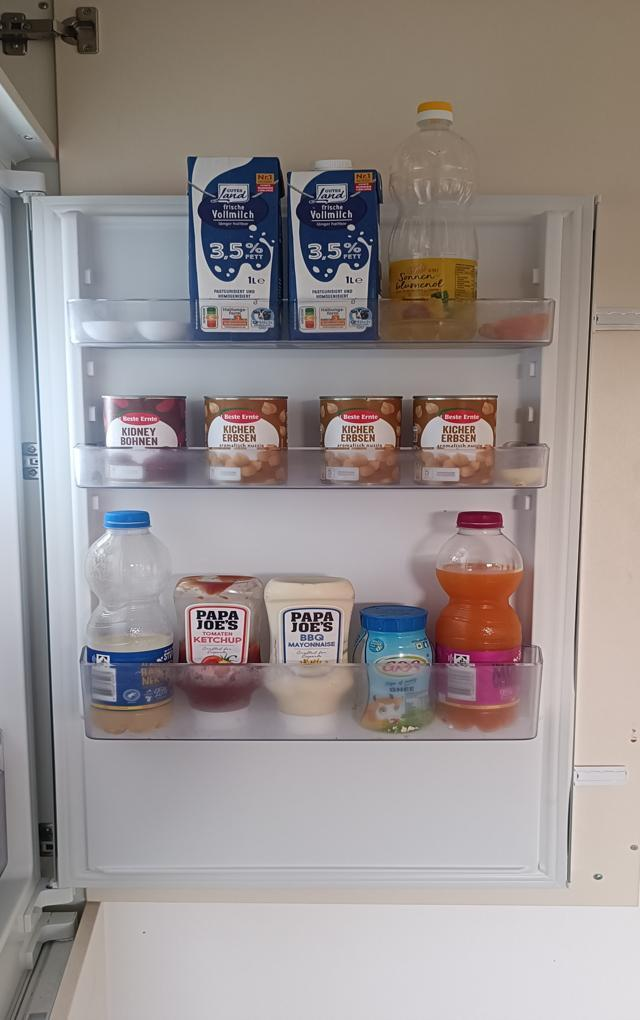bananajuice: (85, 507, 176, 735)
chickpeas: (201, 396, 289, 490), (413, 396, 497, 491), (321, 395, 402, 488)
ghee: (353, 603, 431, 730)
kidneybeans: (100, 395, 191, 490)
mayoniasie: (261, 573, 354, 733)
milk: (186, 154, 286, 342), (287, 152, 383, 343)
oil: (385, 96, 482, 343)
orangejuice: (434, 507, 521, 734)
tomatoketchup: (175, 572, 265, 732)
